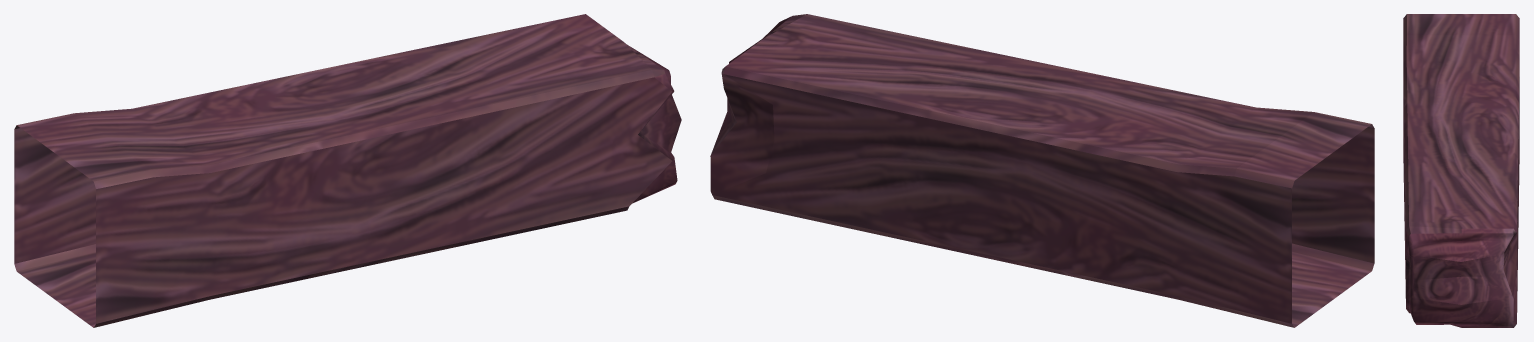
The model's file is MOD_WallTrimThickDamaged_Block.fbx.
3 renders of one model, left to right at view 1: azimuth 30°, elevation 25°; view 2: azimuth 150°, elevation 25°; view 3: azimuth 270°, elevation 25°, orthographic. The views are drawn at different scales.
Parts seen in each view (by area): view 1: MOD_WallTrimThickDamaged_Block; view 2: MOD_WallTrimThickDamaged_Block; view 3: MOD_WallTrimThickDamaged_Block.
Boxes of the visible parts, x1,y1,x2,y2 form: MOD_WallTrimThickDamaged_Block: [14, 14, 681, 327]; MOD_WallTrimThickDamaged_Block: [710, 14, 1374, 327]; MOD_WallTrimThickDamaged_Block: [1403, 14, 1519, 327].
Size of the model in its own units: 209 by 53.28 by 49.3.
Materials: 1 (1 with a texture image).
